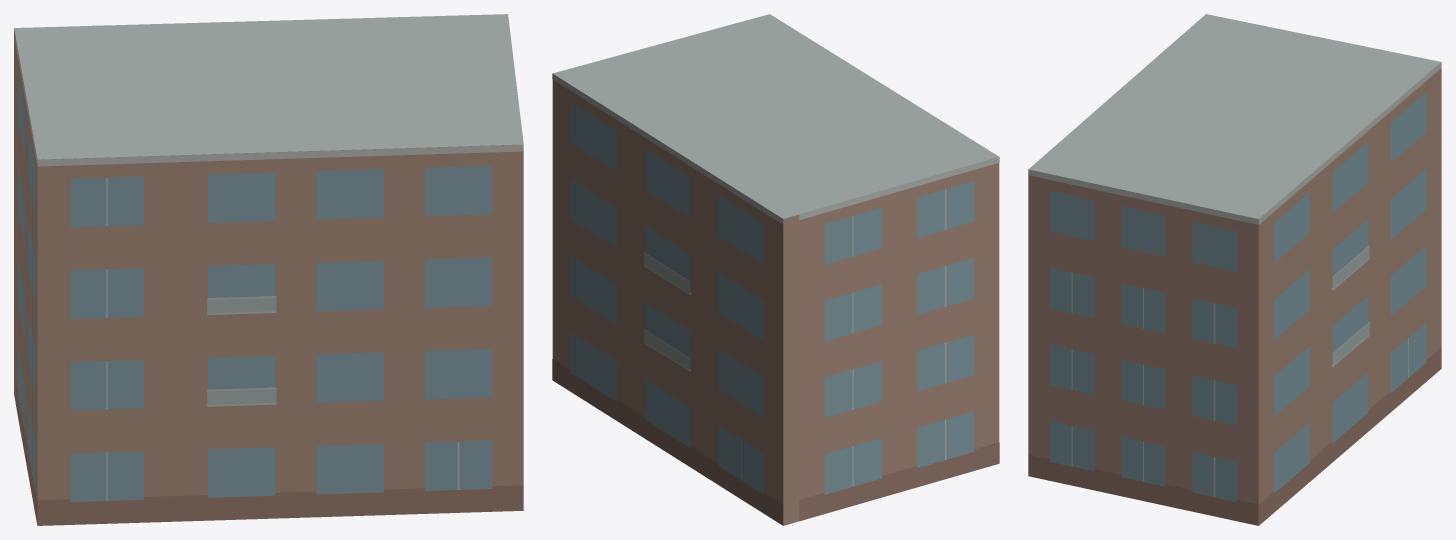
File: survey-upis-32884295.glb
3 views of the same model, side by side, from view 1: azimuth 30°, elevation 25°; view 2: azimuth 150°, elevation 25°; view 3: azimuth 270°, elevation 25° (orthographic). The views are drawn at different scales.
Visible parts, largest first — view 1: survey-upis-32884295.tmp; view 2: survey-upis-32884295.tmp; view 3: survey-upis-32884295.tmp.
Boxes of the visible parts, x1,y1,x2,y2 form: survey-upis-32884295.tmp: (14, 14, 523, 525); survey-upis-32884295.tmp: (552, 14, 999, 525); survey-upis-32884295.tmp: (1028, 14, 1441, 525).
Bounding box in the file's own units: 18.37 × 12.8 × 15.64.
